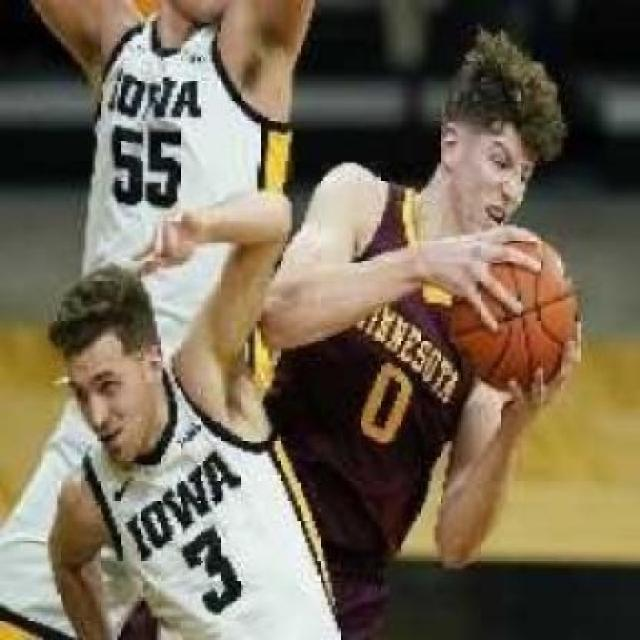basketball: (451, 227, 584, 393)
